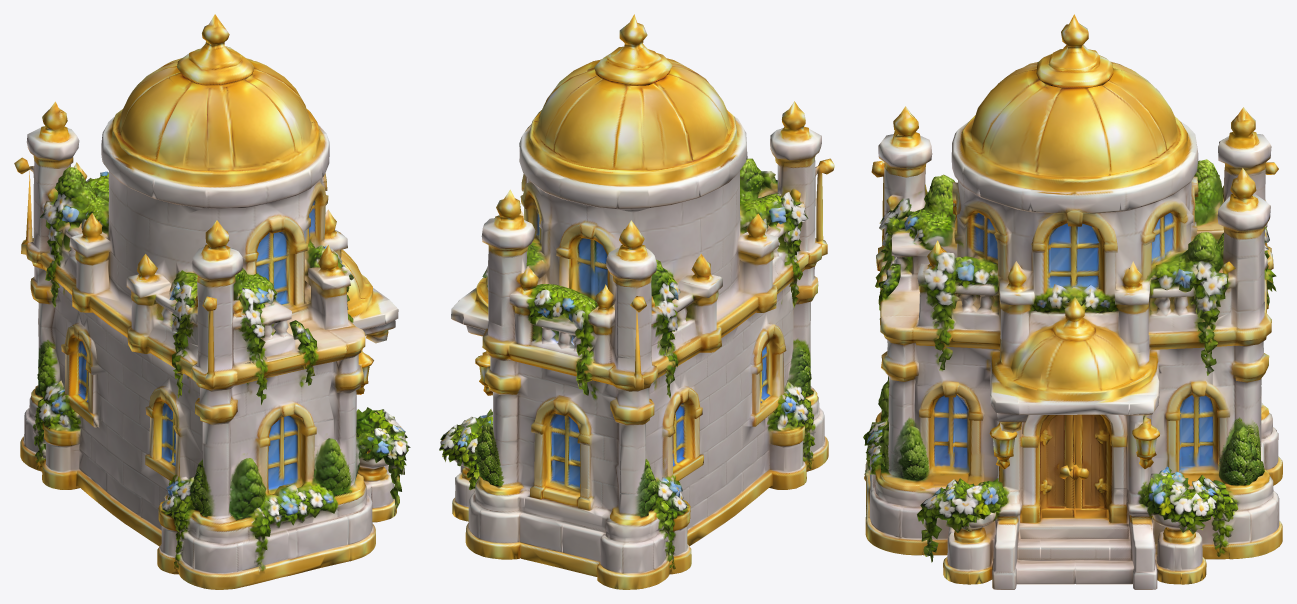
The model's file is HaloDomeHouse_08_HD_src.glb.
3 views of the same model, side by side, from view 1: azimuth 30°, elevation 25°; view 2: azimuth 150°, elevation 25°; view 3: azimuth 270°, elevation 25° (orthographic). The views are drawn at different scales.
Parts seen in each view (by area): view 1: tripo_node_4ec8a103-35c4-4a93-be31-679f83d4a7f7; view 2: tripo_node_4ec8a103-35c4-4a93-be31-679f83d4a7f7; view 3: tripo_node_4ec8a103-35c4-4a93-be31-679f83d4a7f7.
Boxes of the visible parts, bbox=[...] form: tripo_node_4ec8a103-35c4-4a93-be31-679f83d4a7f7: bbox=[14, 14, 410, 589]; tripo_node_4ec8a103-35c4-4a93-be31-679f83d4a7f7: bbox=[439, 14, 834, 589]; tripo_node_4ec8a103-35c4-4a93-be31-679f83d4a7f7: bbox=[863, 14, 1282, 589].
Size of the model in its own units: 0.5535 by 0.9847 by 0.74.
1 material, 1 textured.
